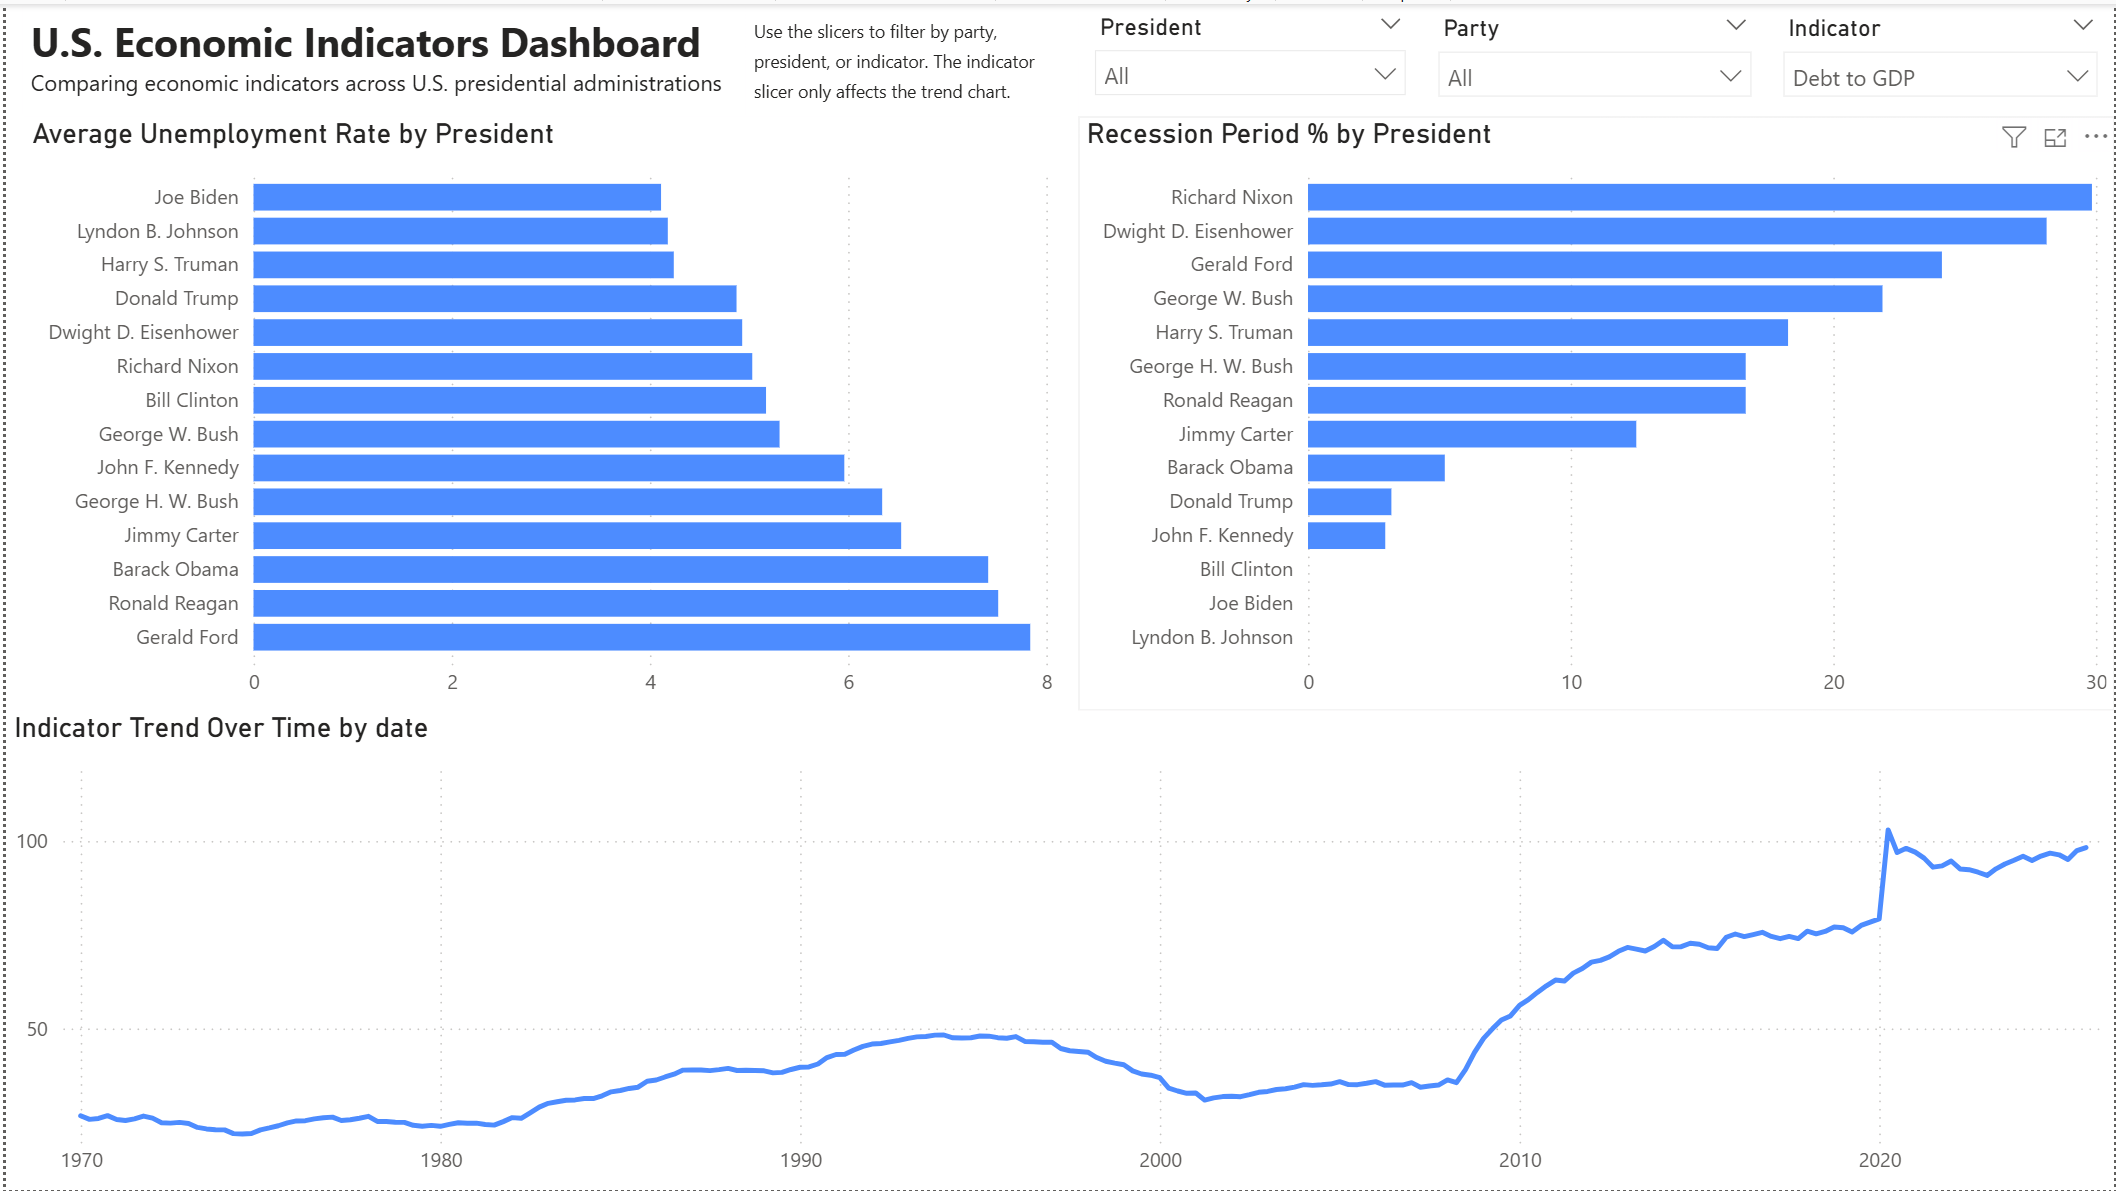

The page's visual inventory and layout, read from the dashboard file:
{"tool":"powerbi","page":{"name":"Page 1","canvas":[1280,720],"ordinal":0},"visuals":[{"type":"clusteredBarChart","fields":{"Category":["public dim_administration.president_name"],"Y":["public dim_administration.Recession Period %"]},"box":[651.1,67.9,629.3,361.3],"z":0},{"type":"slicer","fields":{"Values":["public dim_administration.party"]},"box":[859.7,1.2,209.8,66.7],"z":1000},{"type":"slicer","fields":{"Values":["public dim_administration.president_name"]},"box":[651.1,0,208.6,66.7],"z":2000},{"type":"slicer","fields":{"Values":["public dim_indicator.Indicator Display Name"]},"box":[1069.4,1.2,211,66.7],"z":3000},{"type":"lineChart","fields":{"Category":["public fact_economic_data.date"],"Y":["Sum(public fact_economic_data.value)"]},"box":[0,429.2,1280.4,291],"z":4000},{"type":"clusteredBarChart","title":"Average Unemployment Rate by President","fields":{"Category":["public dim_administration.president_name"],"Y":["public dim_administration.Avg Unemployment Rate"]},"box":[10.9,67.9,629.3,361.3],"z":5000},{"type":"textbox","box":[10.5,1,438.3,65.9],"z":6000},{"type":"textbox","box":[448.8,1,201.9,66.9],"z":7000}]}

Visuals, with their boxes in screenshot pixels (x1, y1, x2, y2), scaled from the page's 1280x720 canvas onto the 2116x1191 screenshot:
clusteredBarChart - public dim_administration.president_name x public dim_administration.Recession Period %: 1076,112,2115,710
slicer - public dim_administration.party: 1421,2,1768,112
slicer - public dim_administration.president_name: 1076,0,1421,110
slicer - public dim_indicator.Indicator Display Name: 1768,2,2115,112
lineChart - public fact_economic_data.date x Sum(public fact_economic_data.value): 0,710,2115,1190
"Average Unemployment Rate by President" clusteredBarChart: 18,112,1058,710
textbox: 17,2,742,111
textbox: 742,2,1076,112
